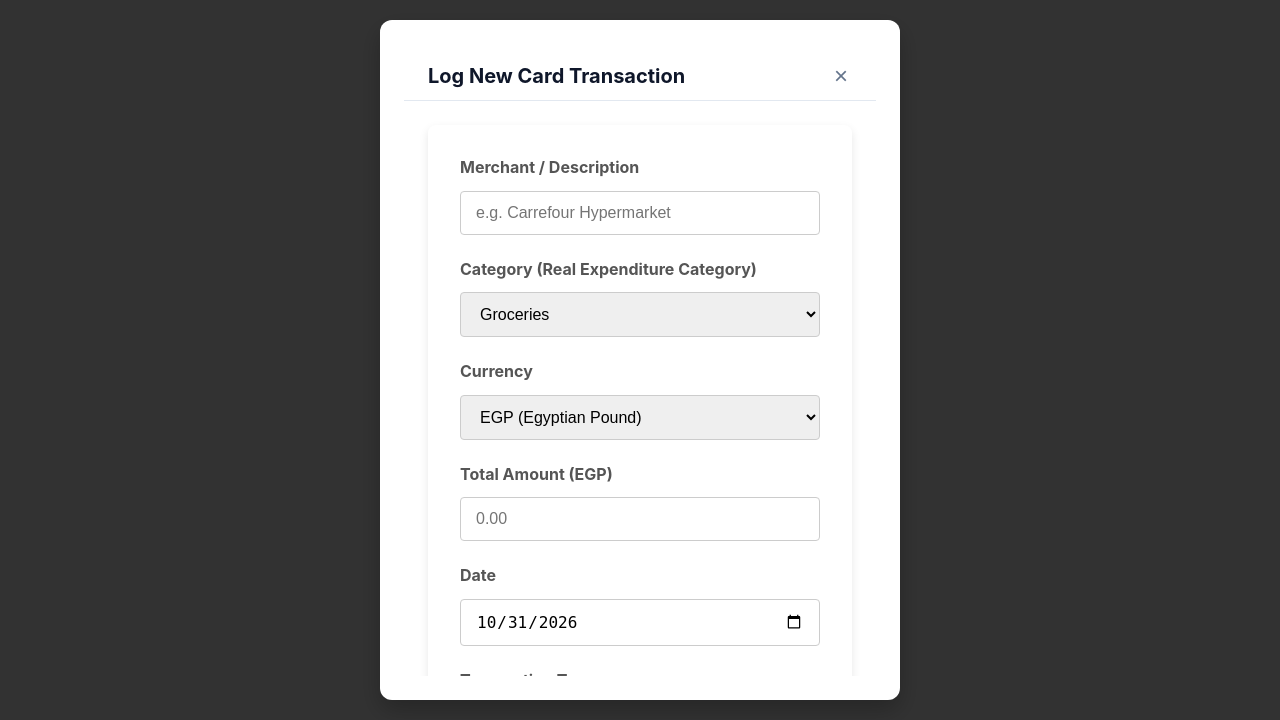
AddTransactionModal.currency.test.js - Multi-Currency & Rate Lock Tests › selecting USD reveals foreignAmount and exchangeRate inputs, and conversion preview
This screenshot has width=1280, height=720.
Step 1. Select "USD (US Dollar)" in the dropdown labelled "Currency" → point(640, 417), box x1=460 y1=395 x2=820 y2=440
(page scrolled)
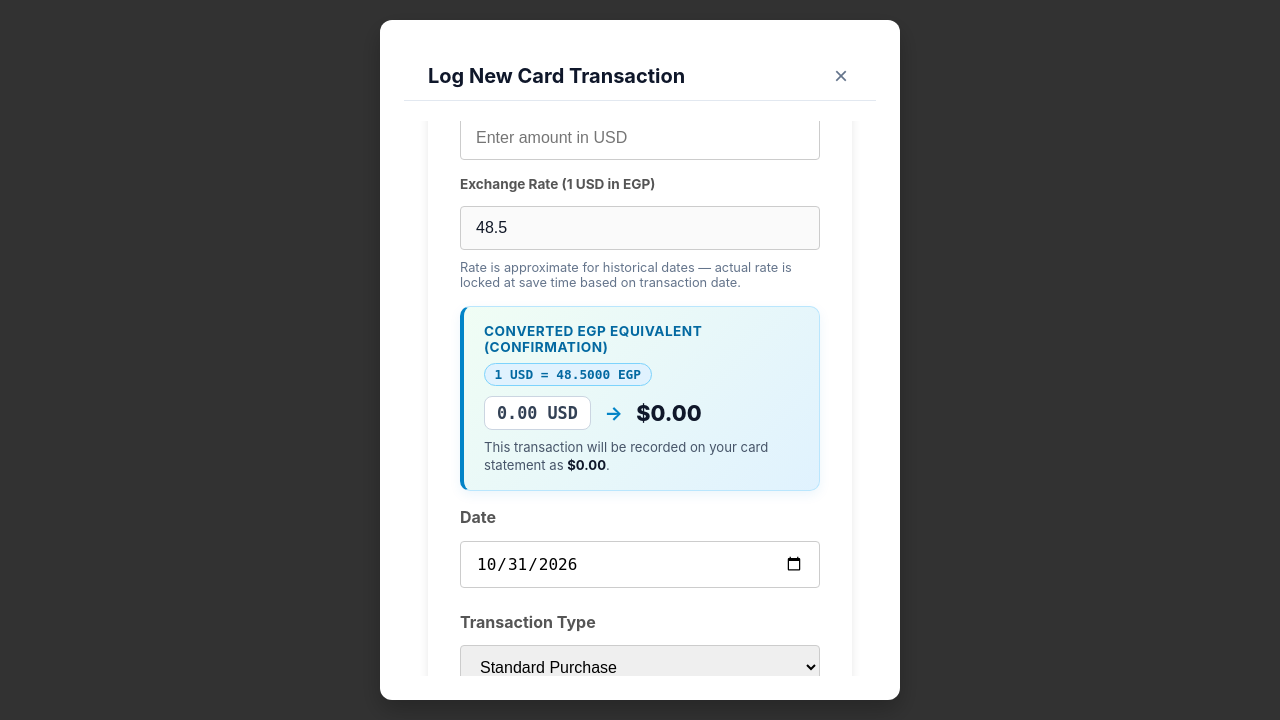
Now the number field labelled "Amount (USD)" is shown, box x1=460 y1=121 x2=820 y2=160
Now the number field labelled "Exchange Rate (1 USD in EGP)" is shown, box x1=460 y1=206 x2=820 y2=250
Now the element with test id "conversion-confirmation-card" is shown, box x1=460 y1=306 x2=820 y2=491
